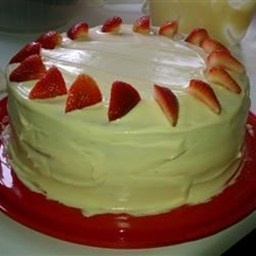background: (0, 5, 100, 87)
